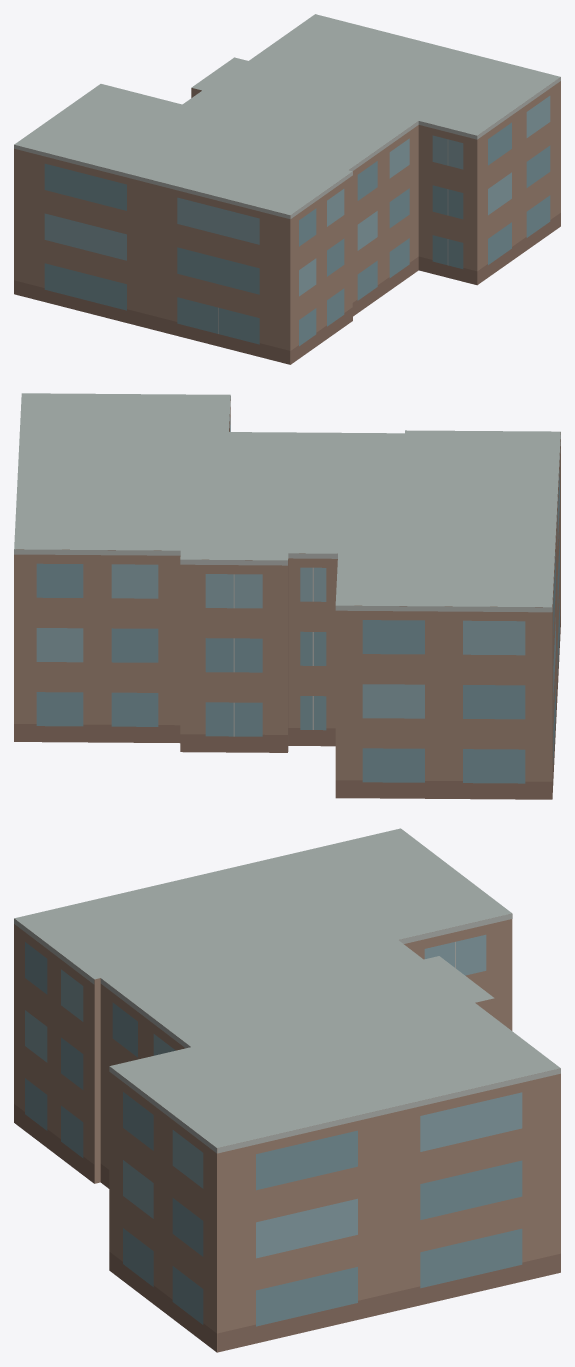
Rendered from survey-upis-32807296.glb.
3 renders of one model, top to bottom at view 1: azimuth 30°, elevation 25°; view 2: azimuth 150°, elevation 25°; view 3: azimuth 270°, elevation 25°, orthographic. The views are drawn at different scales.
Visible parts, largest first — view 1: survey-upis-32807296.tmp; view 2: survey-upis-32807296.tmp; view 3: survey-upis-32807296.tmp.
Boxes of the visible parts, x1,y1,x2,y2 form: survey-upis-32807296.tmp: [14, 14, 560, 364]; survey-upis-32807296.tmp: [14, 393, 560, 799]; survey-upis-32807296.tmp: [14, 828, 560, 1352].
Size of the model in its own units: 30.72 by 9.15 by 22.19.
